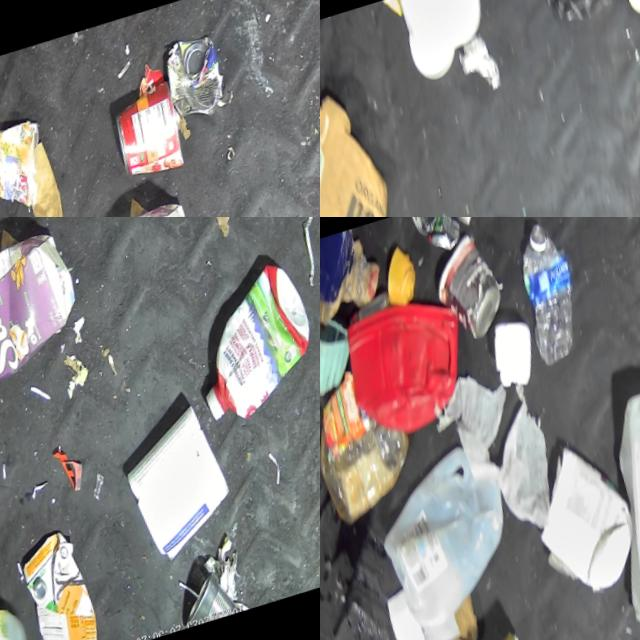can: (419, 223, 519, 355), (105, 81, 194, 189), (155, 30, 236, 131), (173, 558, 265, 638), (0, 114, 60, 217), (405, 217, 468, 263), (595, 0, 640, 39)
milk_jug: (362, 431, 539, 640), (583, 374, 640, 640), (0, 589, 52, 640)
plastic_bottle: (504, 217, 598, 377)
